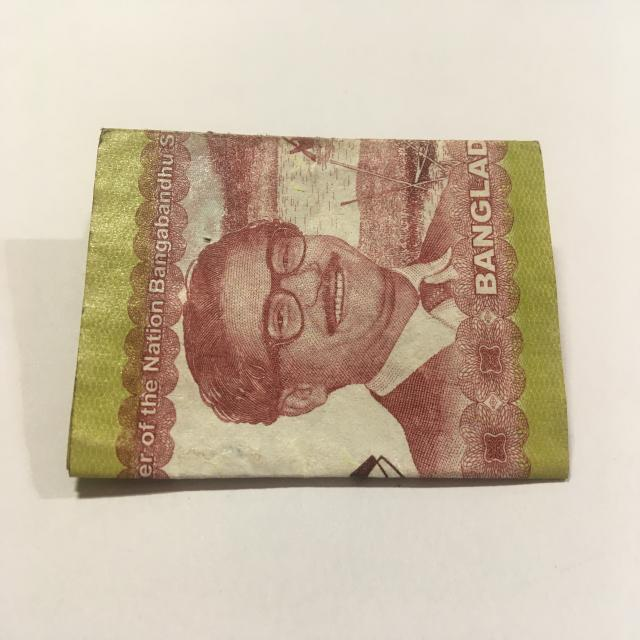Taka: (65, 116, 576, 482)
